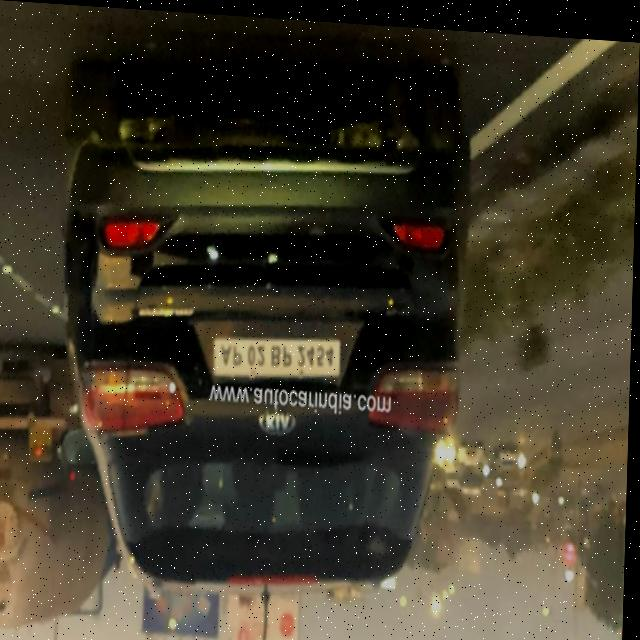plate: (213, 327, 344, 384)
